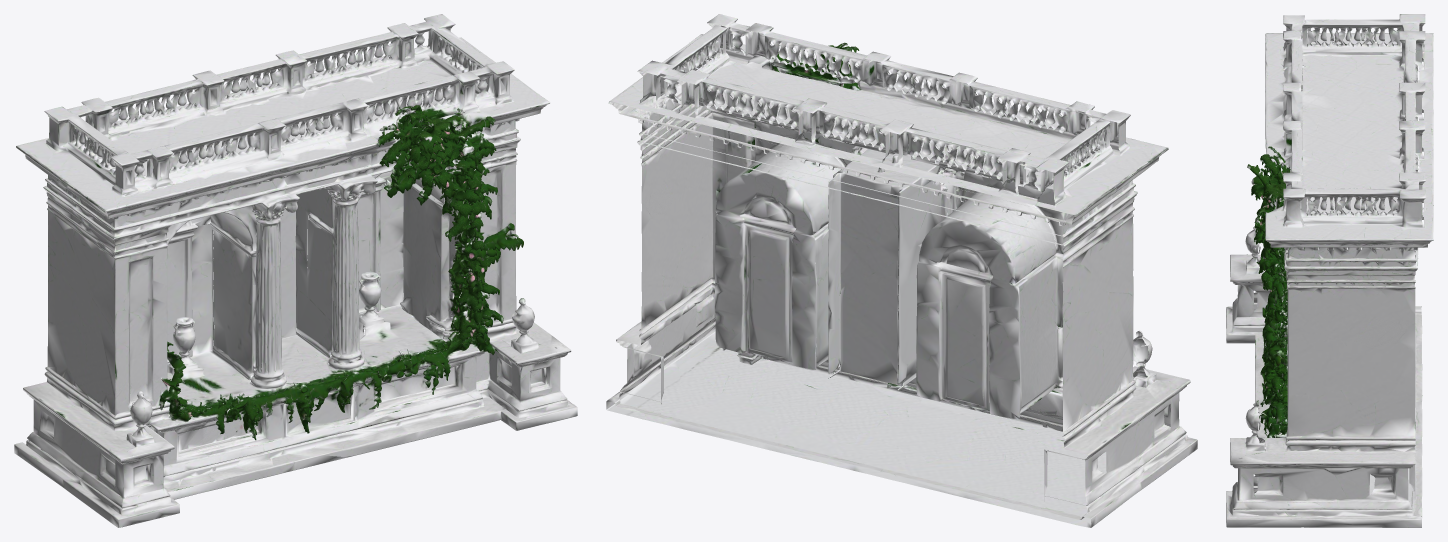
The model's file is garden_bay.glb.
3 renders of one model, left to right at view 1: azimuth 30°, elevation 25°; view 2: azimuth 150°, elevation 25°; view 3: azimuth 270°, elevation 25°, orthographic. The views are drawn at different scales.
Size of the model in its own units: 1.9 by 1.31 by 0.7809.
Materials: 1 (1 with a texture image).
